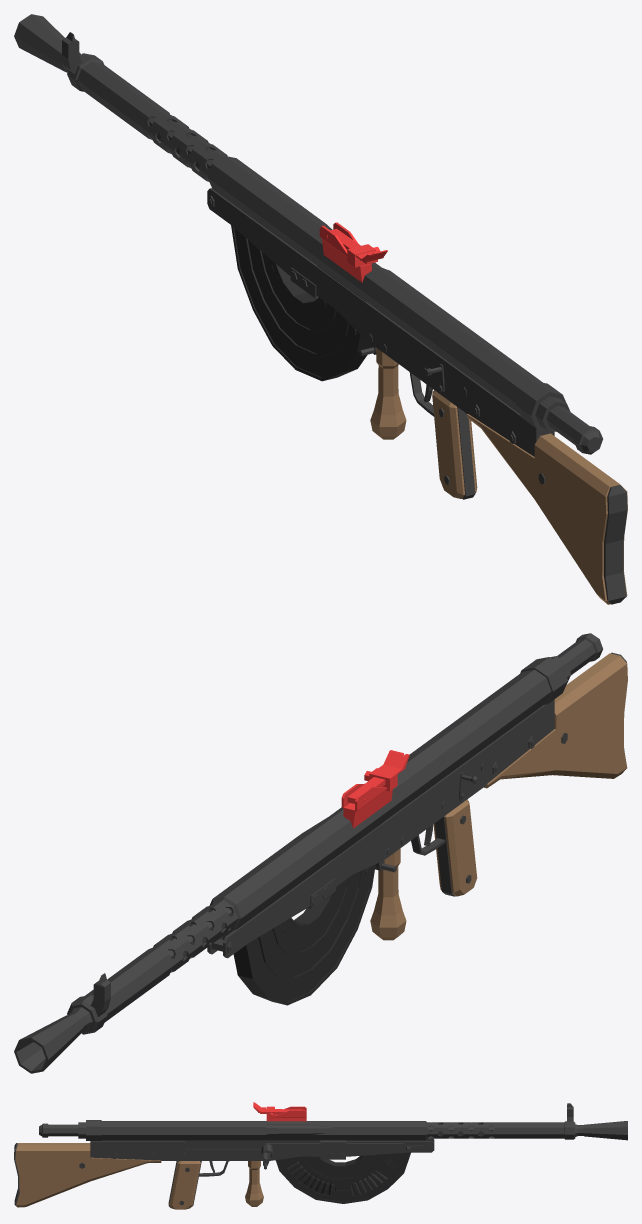
The model's file is lmg_5.glb.
3 views of the same model, one above another, from view 1: azimuth 30°, elevation 25°; view 2: azimuth 150°, elevation 25°; view 3: azimuth 270°, elevation 25° (orthographic). The views are drawn at different scales.
Parts seen in each view (by area): view 1: p0_paint, p3_paint, p46_mag, p39_accent, p30_accent, p45_paint, p24_accent, p14_del, p29_paint; view 2: p0_paint, p3_paint, p46_mag, p39_accent, p30_accent, p24_accent, p14_del, p29_paint; view 3: p0_paint, p46_mag, p39_accent, p3_paint, p9_paint, p30_accent, p12_paint, p24_accent, p10_paint, p14_del, p2_paint, p19_paint.
Boxes of the visible parts, left/top/right/bottom form: p0_paint: left=14, top=14, right=602, bottom=454; p3_paint: left=207, top=188, right=554, bottom=456; p46_mag: left=231, top=225, right=370, bottom=381; p39_accent: left=466, top=414, right=627, bottom=604; p30_accent: left=432, top=390, right=477, bottom=498; p45_paint: left=604, top=485, right=627, bottom=604; p24_accent: left=370, top=348, right=406, bottom=439; p14_del: left=319, top=222, right=371, bottom=282; p29_paint: left=457, top=407, right=475, bottom=499; p0_paint: left=14, top=633, right=602, bottom=1073; p3_paint: left=207, top=699, right=554, bottom=958; p46_mag: left=233, top=864, right=375, bottom=1005; p39_accent: left=484, top=653, right=627, bottom=788; p30_accent: left=433, top=800, right=477, bottom=896; p24_accent: left=370, top=848, right=406, bottom=940; p14_del: left=341, top=783, right=392, bottom=828; p29_paint: left=435, top=799, right=467, bottom=896; p0_paint: left=39, top=1120, right=627, bottom=1140; p46_mag: left=275, top=1152, right=410, bottom=1203; p39_accent: left=15, top=1143, right=161, bottom=1207; p3_paint: left=90, top=1138, right=434, bottom=1160; p9_paint: left=264, top=1143, right=403, bottom=1153; p30_accent: left=169, top=1161, right=200, bottom=1209; p12_paint: left=265, top=1124, right=333, bottom=1135; p24_accent: left=245, top=1161, right=263, bottom=1206; p10_paint: left=320, top=1140, right=345, bottom=1159; p14_del: left=266, top=1106, right=306, bottom=1121; p2_paint: left=428, top=1124, right=494, bottom=1136; p19_paint: left=261, top=1144, right=273, bottom=1161.
Size of the model in its own units: 0.0715 by 0.2046 by 1.14.
